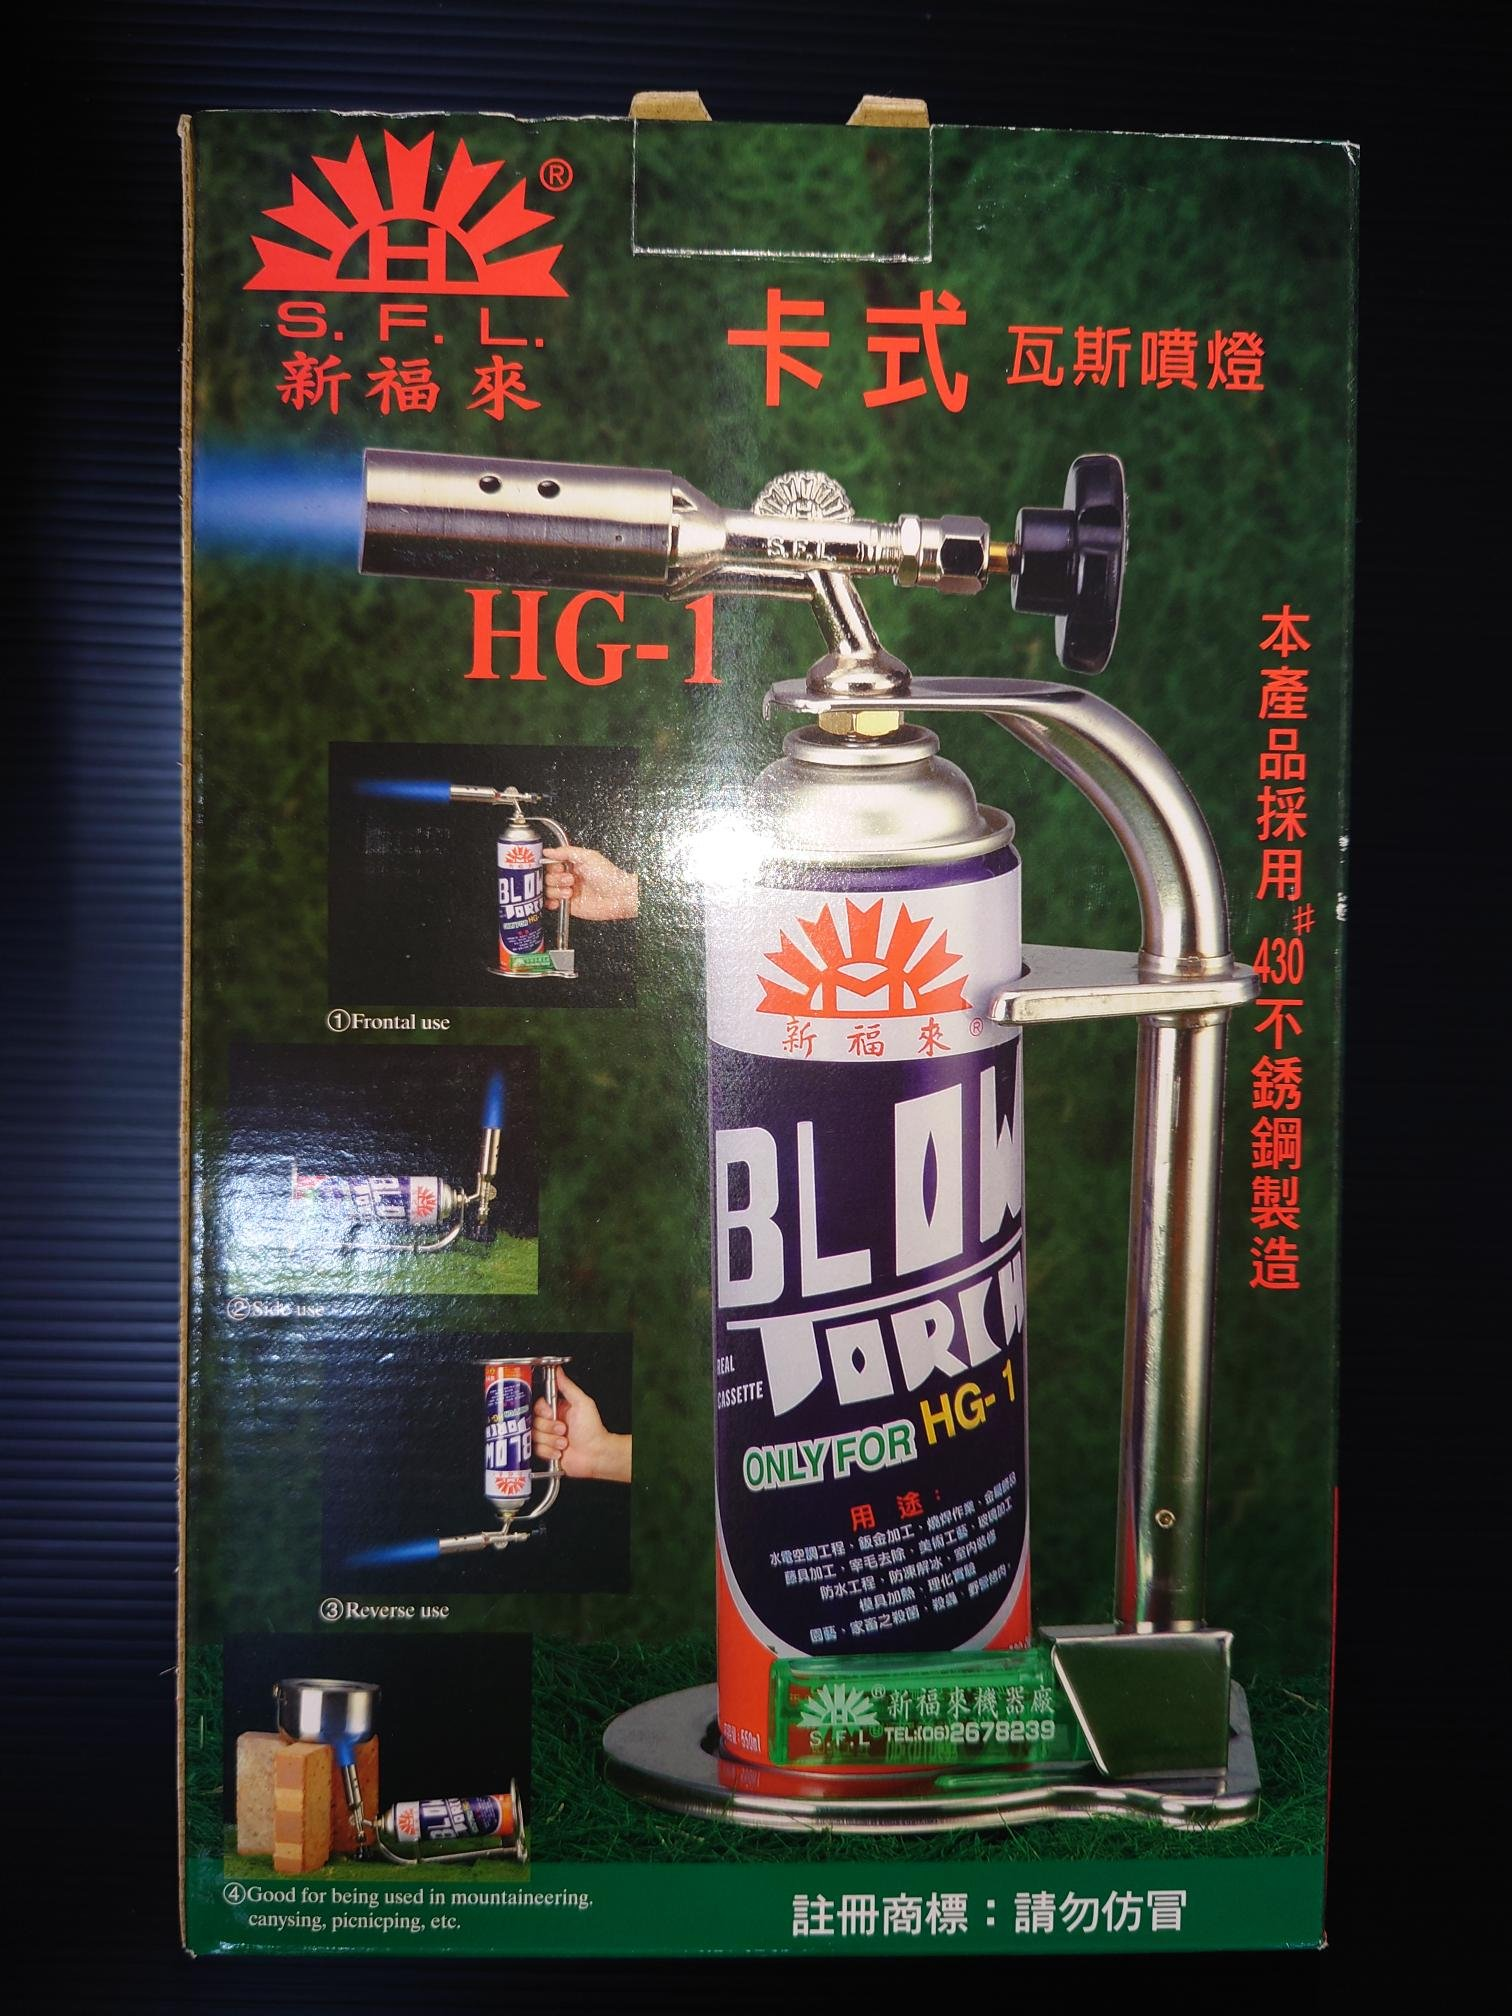gastorch: (346, 427, 1274, 1835)
